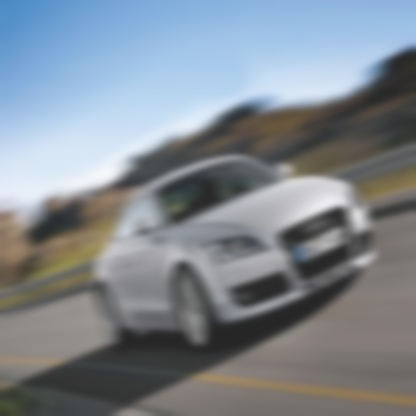Vehicle: (90, 149, 375, 359)
